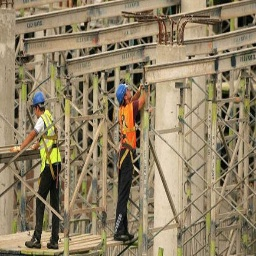helmet: (115, 83, 131, 116), (32, 92, 48, 110)
person: (29, 92, 63, 254), (113, 83, 141, 241)
vest: (33, 111, 63, 176), (119, 104, 138, 148)
